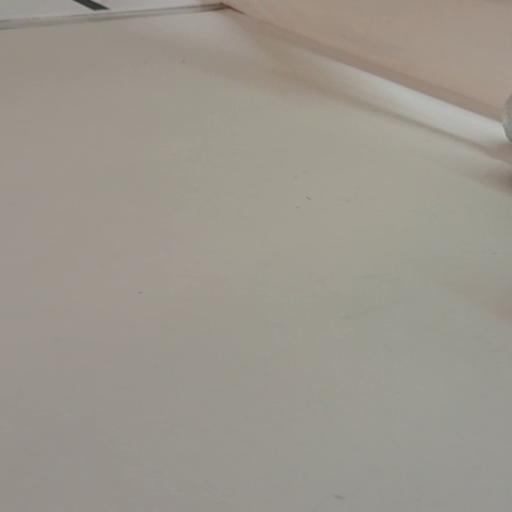alive: (498, 88, 512, 150)
